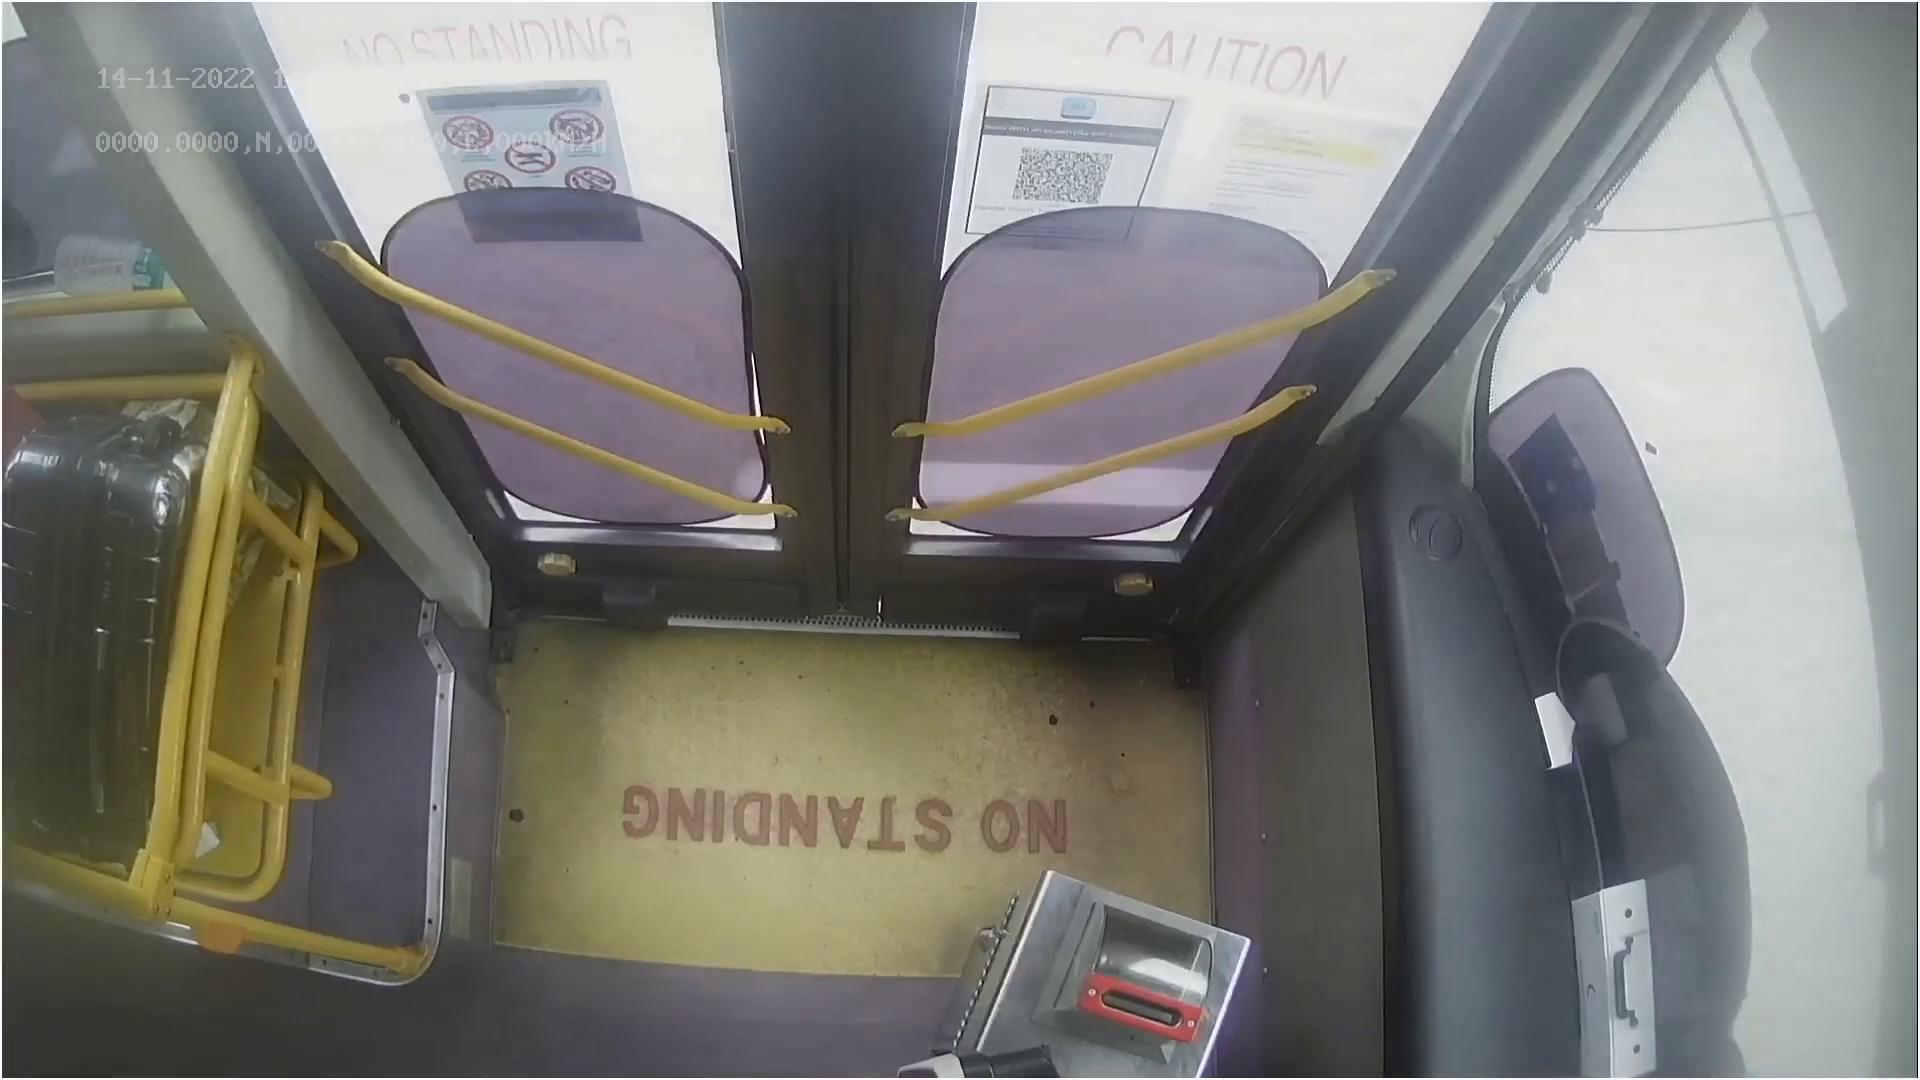close: (286, 0, 1440, 166)
